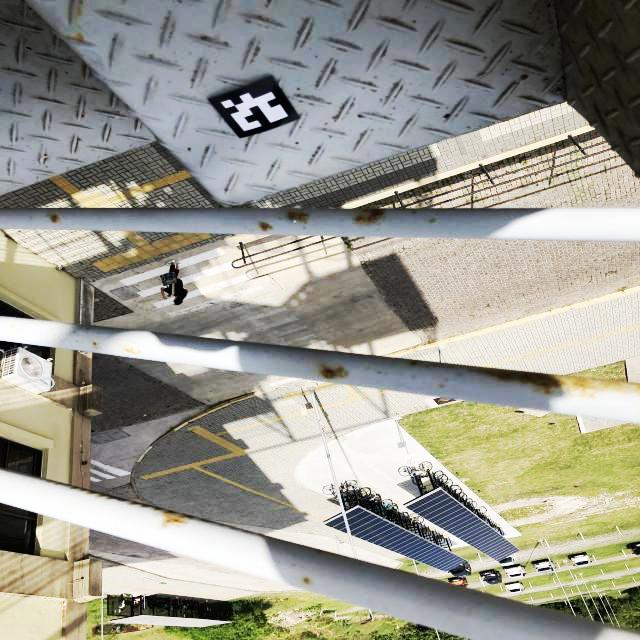Corrosion: (475, 366, 640, 396), (160, 512, 196, 533), (353, 209, 387, 225), (285, 208, 310, 224), (320, 366, 348, 380), (118, 625, 154, 634), (258, 221, 272, 233), (302, 578, 311, 586), (92, 625, 99, 634), (51, 215, 58, 223), (126, 349, 135, 353)
